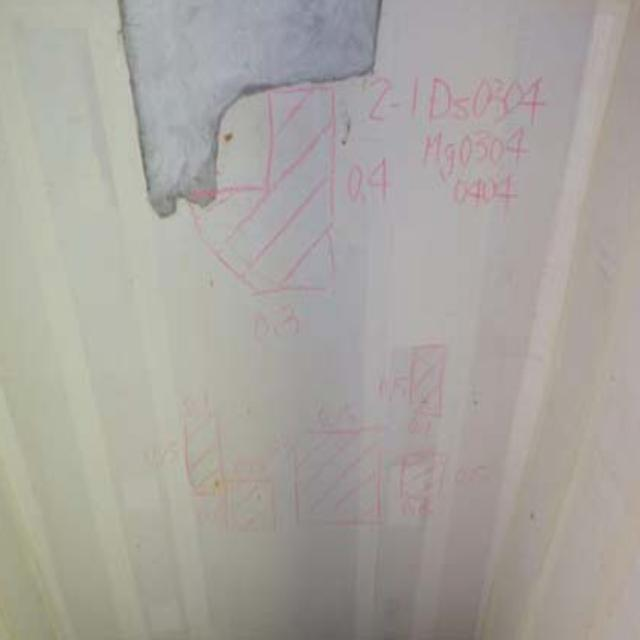spalling: (111, 0, 410, 207)
